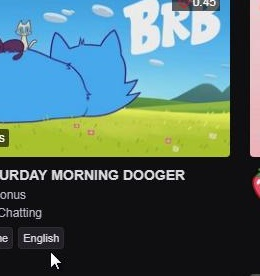cursor: (45, 246, 67, 273)
